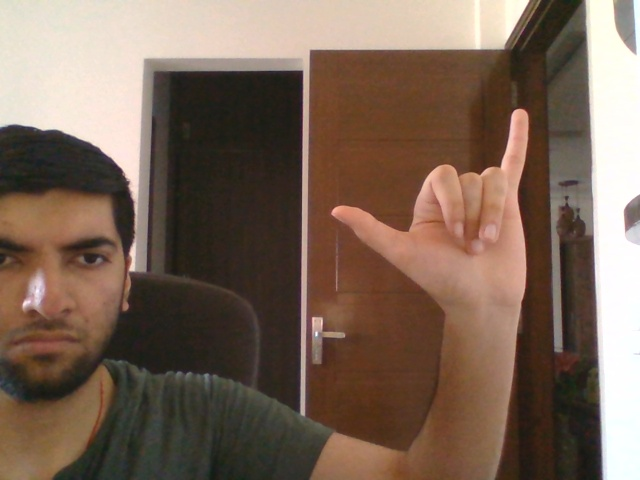LetterY: (328, 107, 531, 309)
